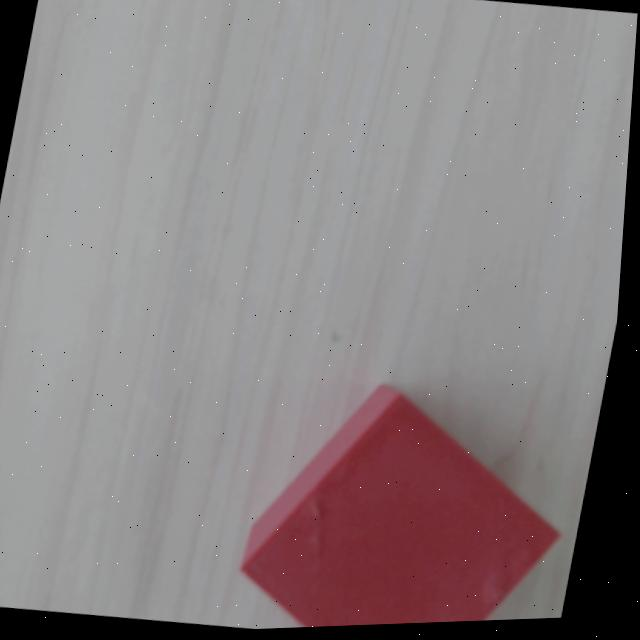Kubus-Merah-505050: (223, 376, 561, 640)
